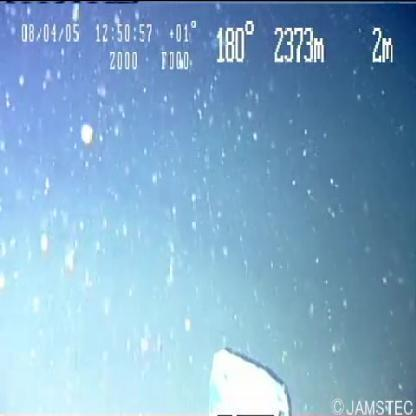Rác: (210, 350, 294, 414)
